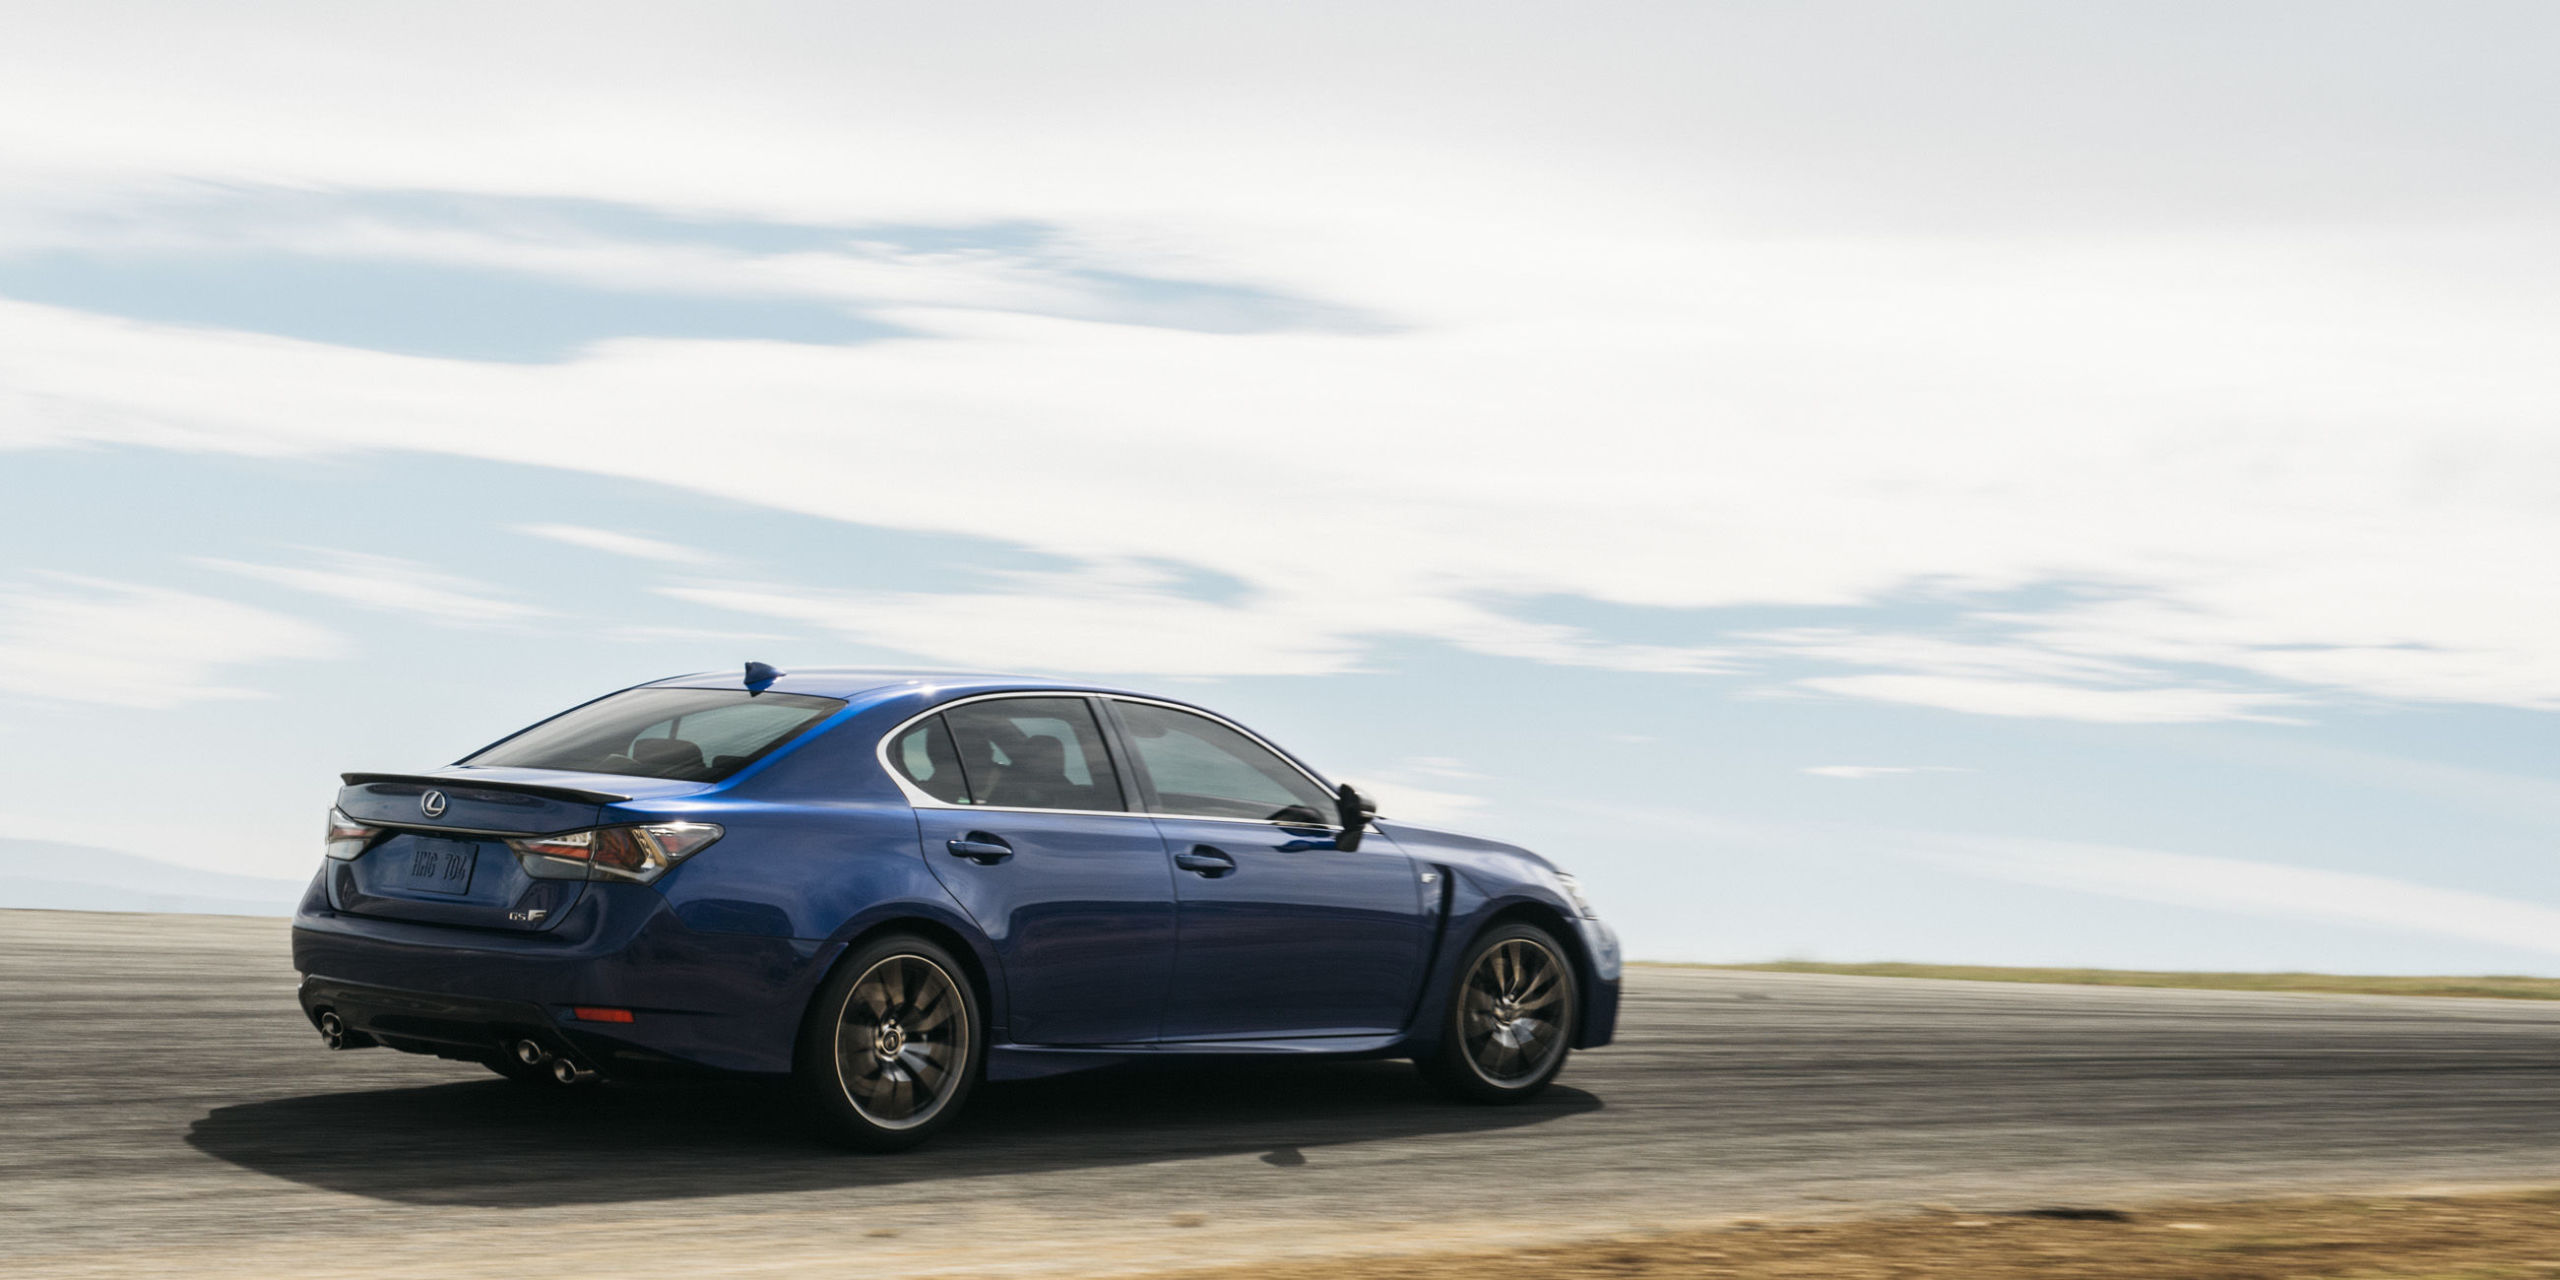car: (282, 651, 1638, 1148)
